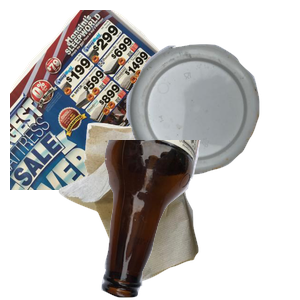glass: (99, 140, 300, 300)
paper: (10, 10, 240, 190)
plastic: (124, 42, 300, 210)
trash: (56, 120, 247, 300)
